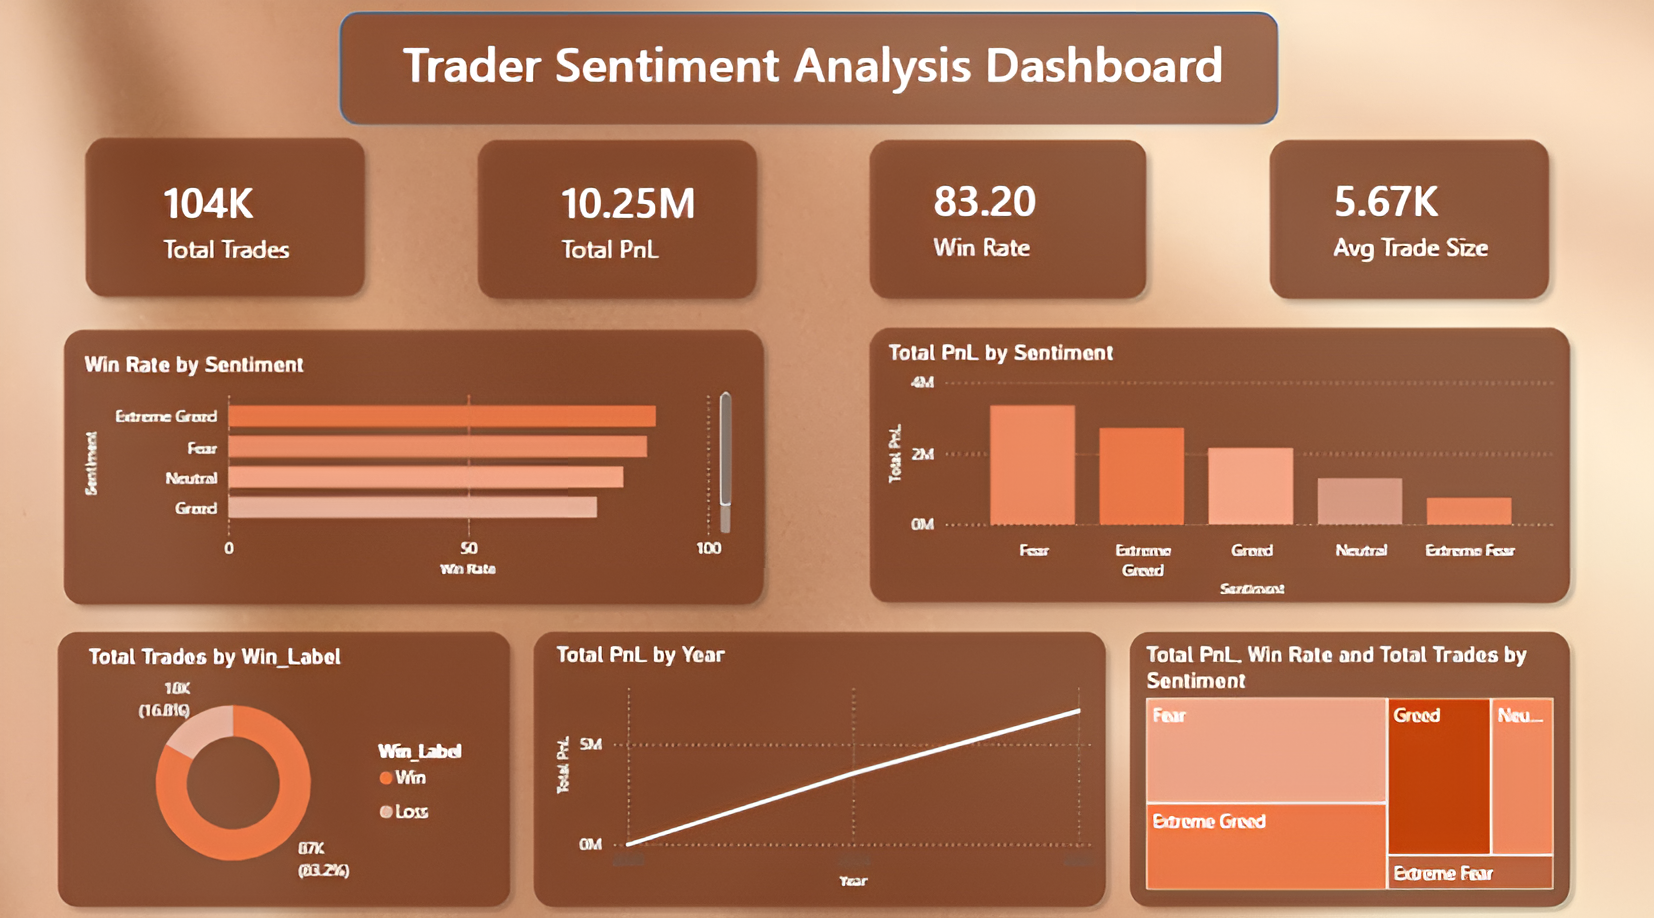

The page's visual inventory and layout, read from the dashboard file:
{"tool":"powerbi","page":{"name":"Page 1","canvas":[1280,720],"ordinal":0},"visuals":[{"type":"shape","box":[266.7,13,722.2,87],"z":0},{"type":"textbox","box":[309.3,22.2,709.3,79.6],"z":1000},{"type":"shape","box":[61.1,100,233.3,140.7],"z":2000},{"type":"shape","box":[363,101.9,233.3,140.7],"z":3000},{"type":"shape","box":[664.8,101.9,231.5,140.7],"z":4000},{"type":"shape","box":[972.2,101.9,233.3,140.7],"z":5000},{"type":"cardVisual","fields":{"Data":["powerbi_trader_sentiment.Total Trades"]},"box":[101.9,101.9,233.3,140.7],"z":6000},{"type":"cardVisual","fields":{"Data":["powerbi_trader_sentiment.Total PnL"]},"box":[407.4,101.9,233.3,140.7],"z":7000},{"type":"cardVisual","fields":{"Data":["powerbi_trader_sentiment.Win Rate"]},"box":[694.4,100,233.3,140.7],"z":8000},{"type":"cardVisual","fields":{"Data":["powerbi_trader_sentiment.Avg Trade Size"]},"box":[1001.9,100,233.3,140.7],"z":9000},{"type":"shape","box":[44.3,248.3,556.7,230],"z":10000},{"type":"clusteredBarChart","title":"Win Rate by Sentiment","fields":{"Category":["powerbi_trader_sentiment.Sentiment"],"Y":["powerbi_trader_sentiment.Win Rate"]},"box":[65.4,273.6,507.4,177.8],"z":11000},{"type":"shape","box":[665,245.9,556.7,230],"z":12000},{"type":"clusteredColumnChart","fields":{"Y":["powerbi_trader_sentiment.Total PnL"],"Category":["powerbi_trader_sentiment.Sentiment"]},"box":[683.3,264.2,525,201.7],"z":13000},{"type":"shape","box":[40,480.4,366.7,230],"z":13001},{"type":"shape","box":[406.7,479.3,458.3,230],"z":13002},{"type":"donutChart","fields":{"Category":["powerbi_trader_sentiment.Win_Label"],"Y":["powerbi_trader_sentiment.Total Trades"]},"box":[68.3,498.8,315,195],"z":13003},{"type":"shape","box":[865,480,356.7,230],"z":13004},{"type":"lineChart","fields":{"Category":["powerbi_trader_sentiment.Date.Variation.Date Hierarchy.Year","powerbi_trader_sentiment.Date.Variation.Date Hierarchy.Quarter","powerbi_trader_sentiment.Date.Variation.Date Hierarchy.Month","powerbi_trader_sentiment.Date.Variation.Date Hierarchy.Day"],"Y":["powerbi_trader_sentiment.Total PnL"]},"box":[428.3,497.6,425,195],"z":13005},{"type":"treemap","fields":{"Values":["powerbi_trader_sentiment.Total PnL"],"Group":["powerbi_trader_sentiment.Sentiment"]},"box":[881.7,496.7,323.3,195],"z":13006}]}

Visuals, with their boxes in screenshot pixels (x1, y1, x2, y2), scaled from the page's 1280x720 canvas onto the 1654x918 screenshot:
shape: select_region(345, 17, 1278, 127)
textbox: select_region(400, 28, 1316, 130)
shape: select_region(79, 127, 380, 307)
shape: select_region(469, 130, 771, 309)
shape: select_region(859, 130, 1158, 309)
shape: select_region(1256, 130, 1558, 309)
cardVisual - powerbi_trader_sentiment.Total Trades: select_region(132, 130, 433, 309)
cardVisual - powerbi_trader_sentiment.Total PnL: select_region(526, 130, 828, 309)
cardVisual - powerbi_trader_sentiment.Win Rate: select_region(897, 127, 1199, 307)
cardVisual - powerbi_trader_sentiment.Avg Trade Size: select_region(1295, 127, 1596, 307)
shape: select_region(57, 317, 777, 610)
"Win Rate by Sentiment" clusteredBarChart: select_region(85, 349, 740, 576)
shape: select_region(859, 314, 1579, 607)
clusteredColumnChart - powerbi_trader_sentiment.Total PnL x powerbi_trader_sentiment.Sentiment: select_region(883, 337, 1561, 594)
shape: select_region(52, 613, 526, 906)
shape: select_region(526, 611, 1118, 904)
donutChart - powerbi_trader_sentiment.Win_Label x powerbi_trader_sentiment.Total Trades: select_region(88, 636, 495, 885)
shape: select_region(1118, 612, 1579, 905)
lineChart - powerbi_trader_sentiment.Date.Variation.Date Hierarchy.Year x powerbi_trader_sentiment.Date.Variation.Date Hierarchy.Quarter: select_region(553, 634, 1103, 883)
treemap - powerbi_trader_sentiment.Total PnL x powerbi_trader_sentiment.Sentiment: select_region(1139, 633, 1557, 882)
